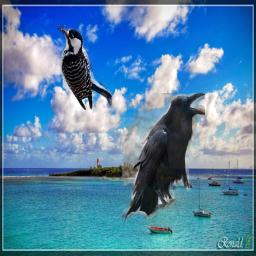Crow: (122, 93, 205, 223)
Woodpecker: (58, 25, 112, 110)
